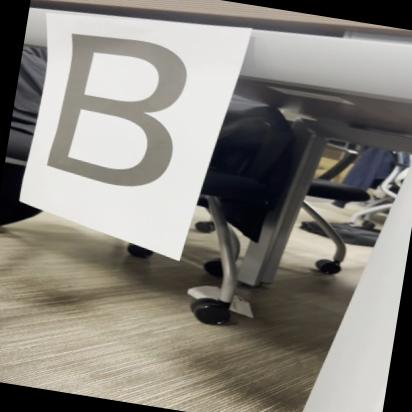seat: (29, 24, 220, 201)
